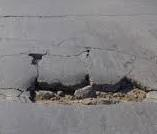crack: (53, 44, 153, 62)
pothole: (22, 71, 152, 109), (22, 51, 51, 65)
